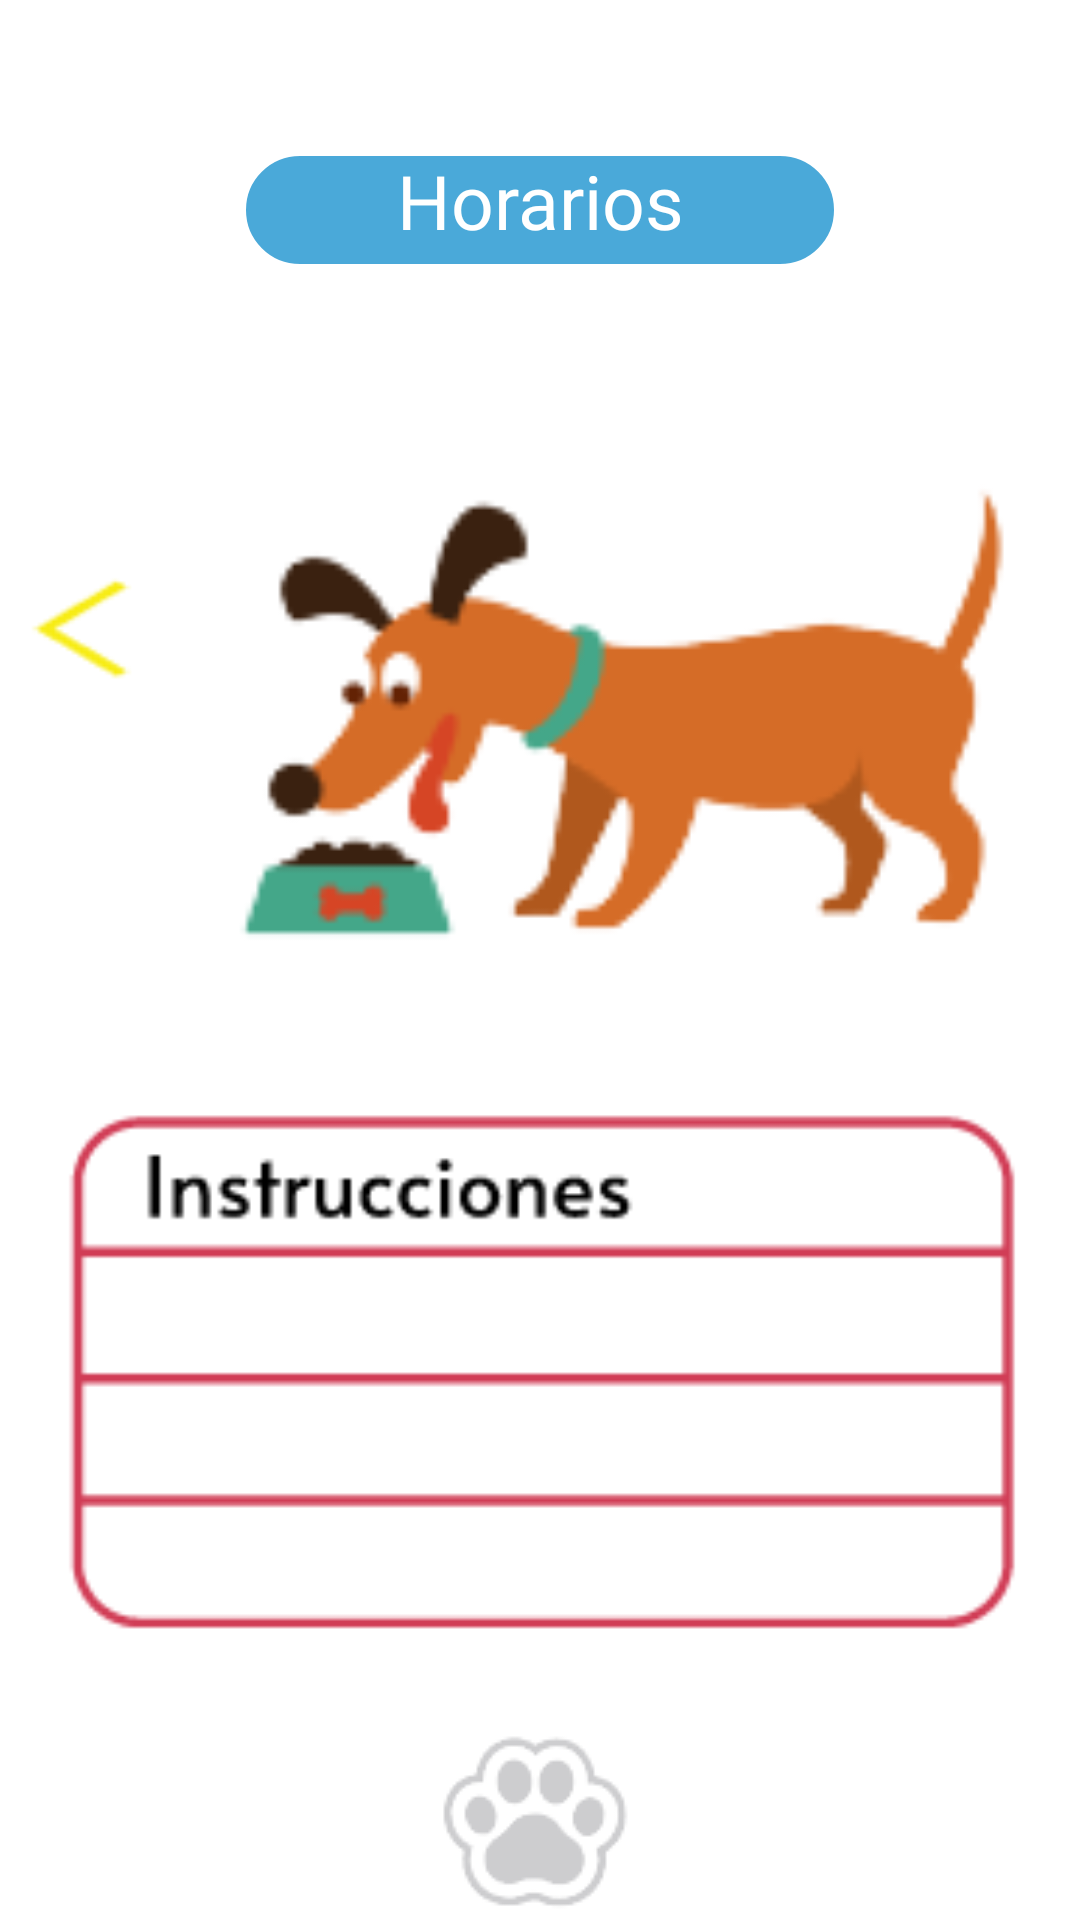

Named icons in this screenshot (1080x1920) and their centers, (x=x, y=y):
regresar: (x=81, y=629)
